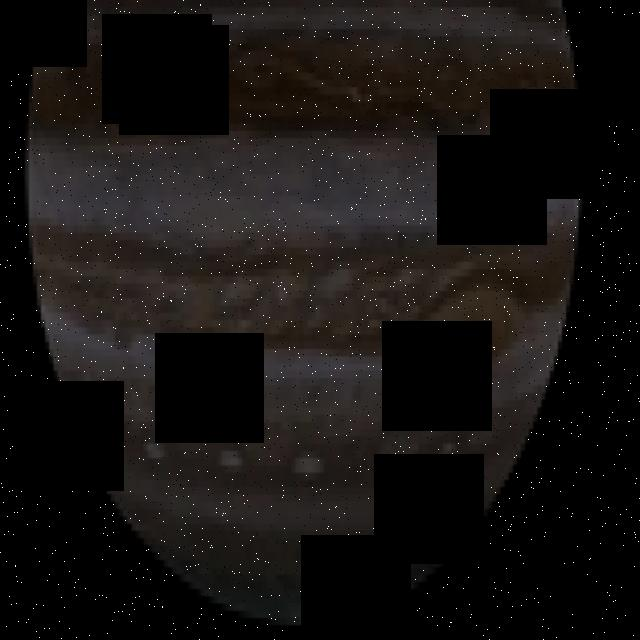Jupiter: (24, 0, 582, 625)
